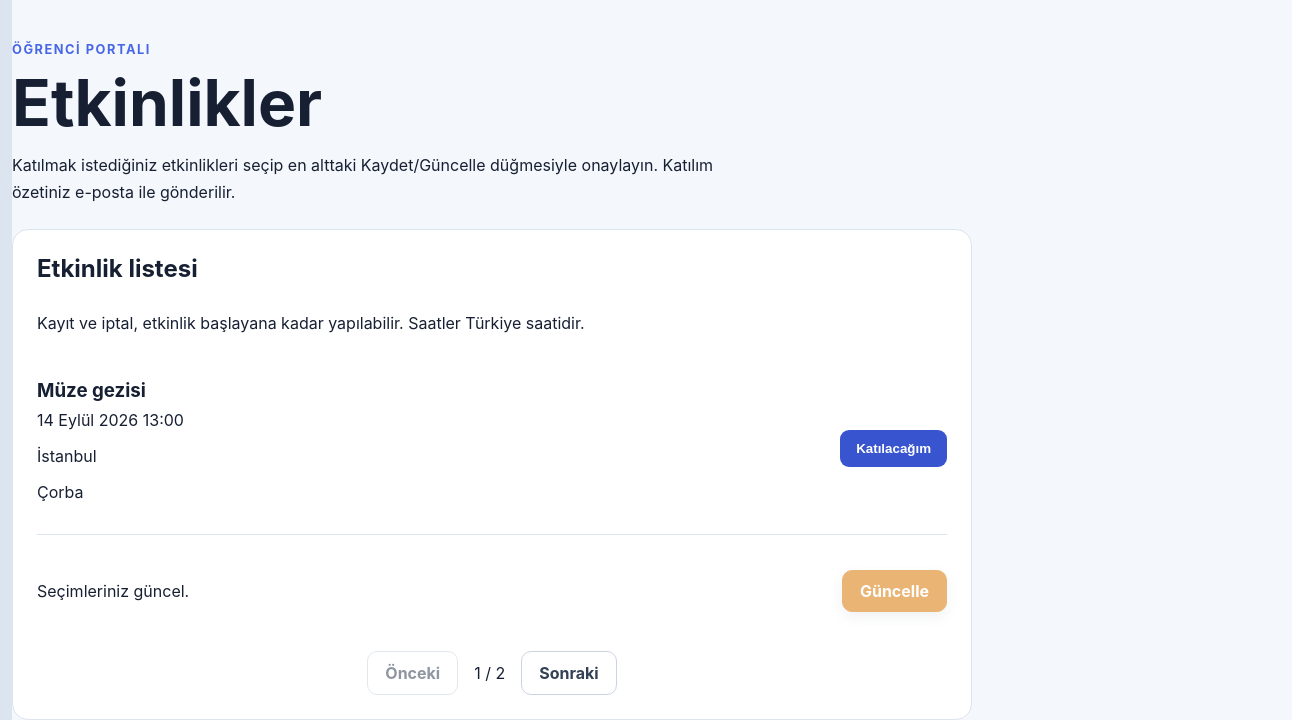
meal and event participation › batches event changes, disables duplicate submit and preserves other-page selections
Step 1. Click the button with aria-label "Müze gezisi: Katılacağım" → [894, 448], box [840,430,947,467]
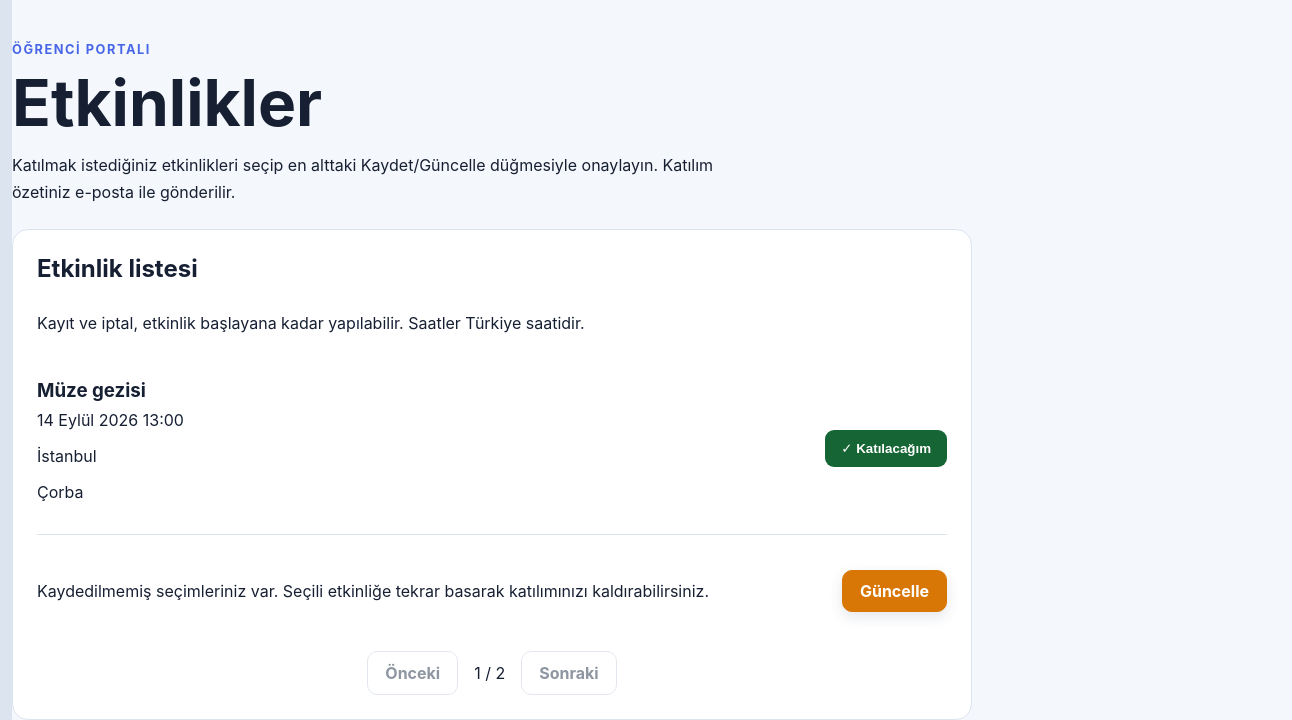
Check: the button "Sonraki" is disabled, box [521,651,617,695]
Step 2. Click the button "Güncelle" → [894, 591], box [842,570,947,612]
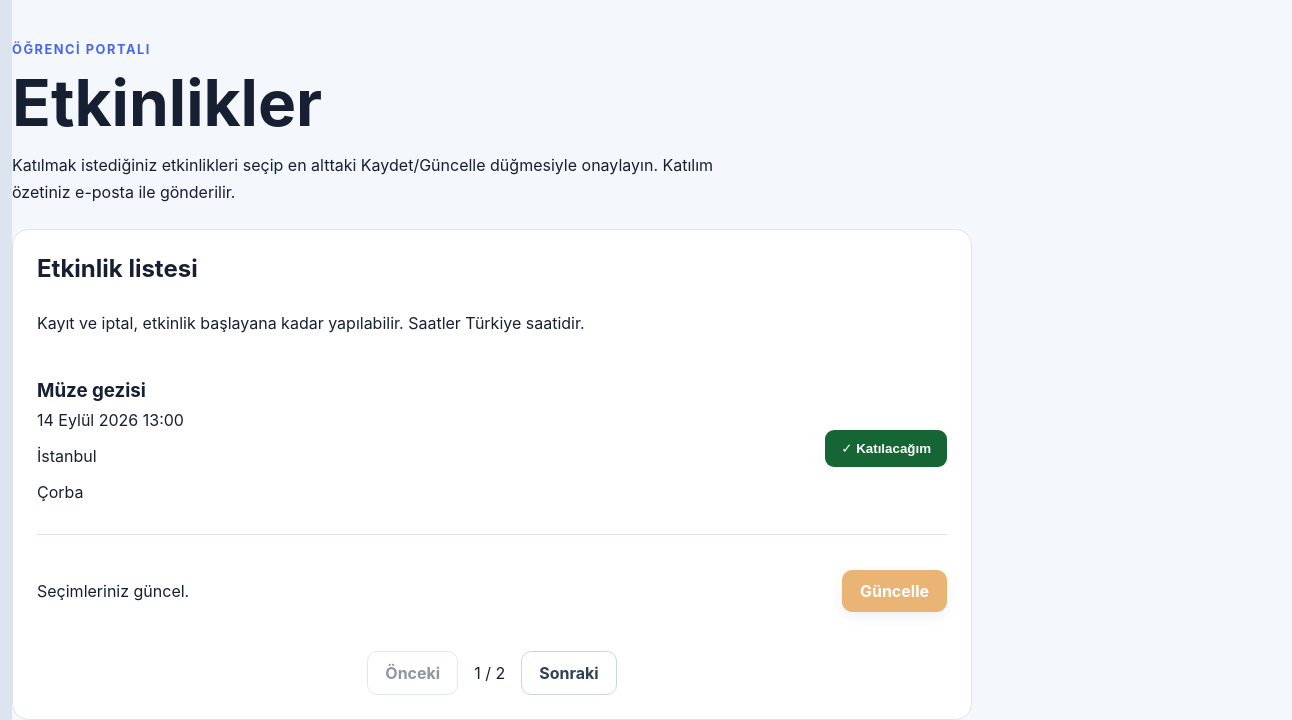
Check: the button named "Kaydediliyor…" is disabled, box [842,570,947,612]
Check: the button "Sonraki" is enabled, box [521,651,617,695]
